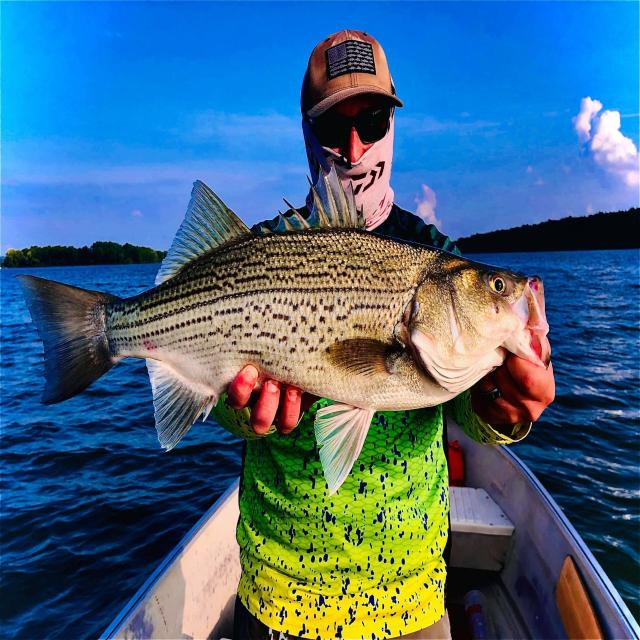Bass - Striped: (17, 170, 550, 494)
